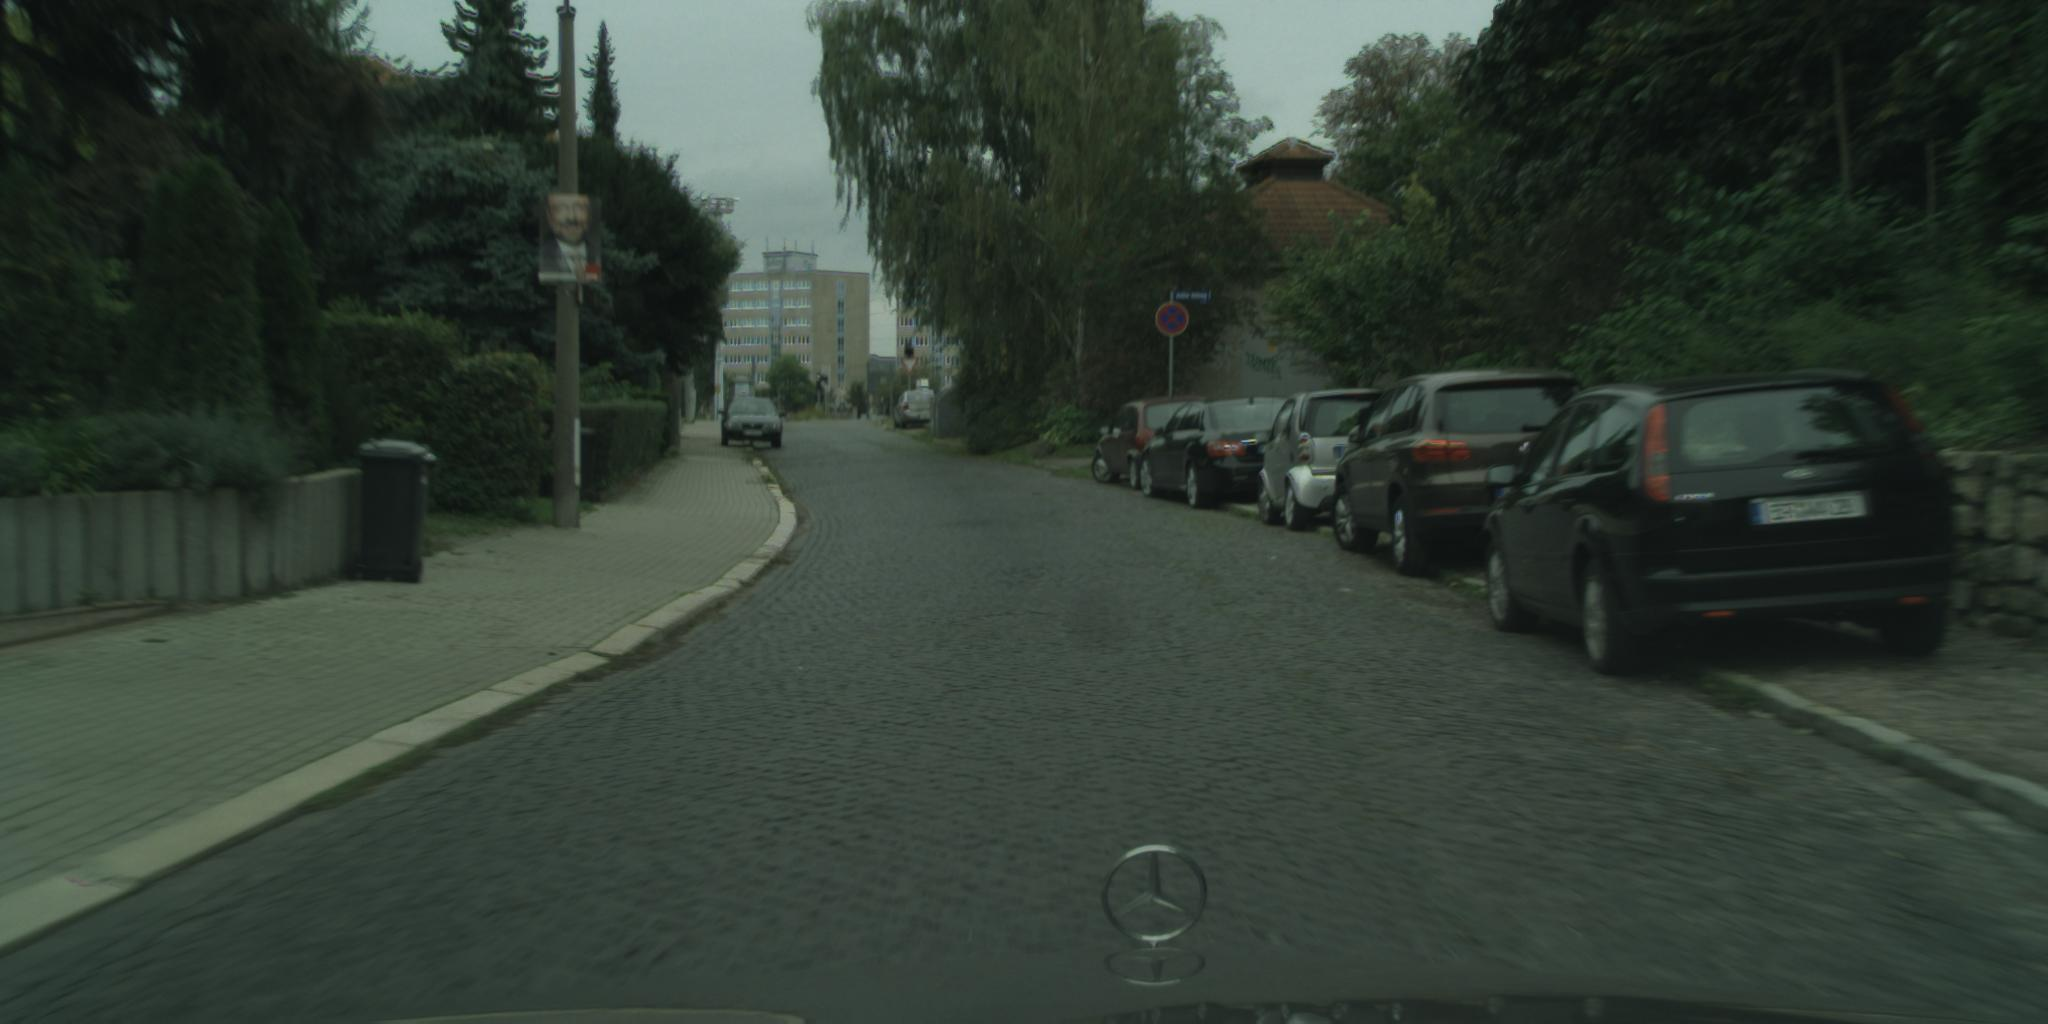car: (1482, 368, 1960, 677), (1332, 370, 1590, 579), (1256, 389, 1392, 534), (1140, 397, 1300, 511), (1092, 397, 1215, 492), (718, 397, 788, 451), (893, 391, 939, 431)
